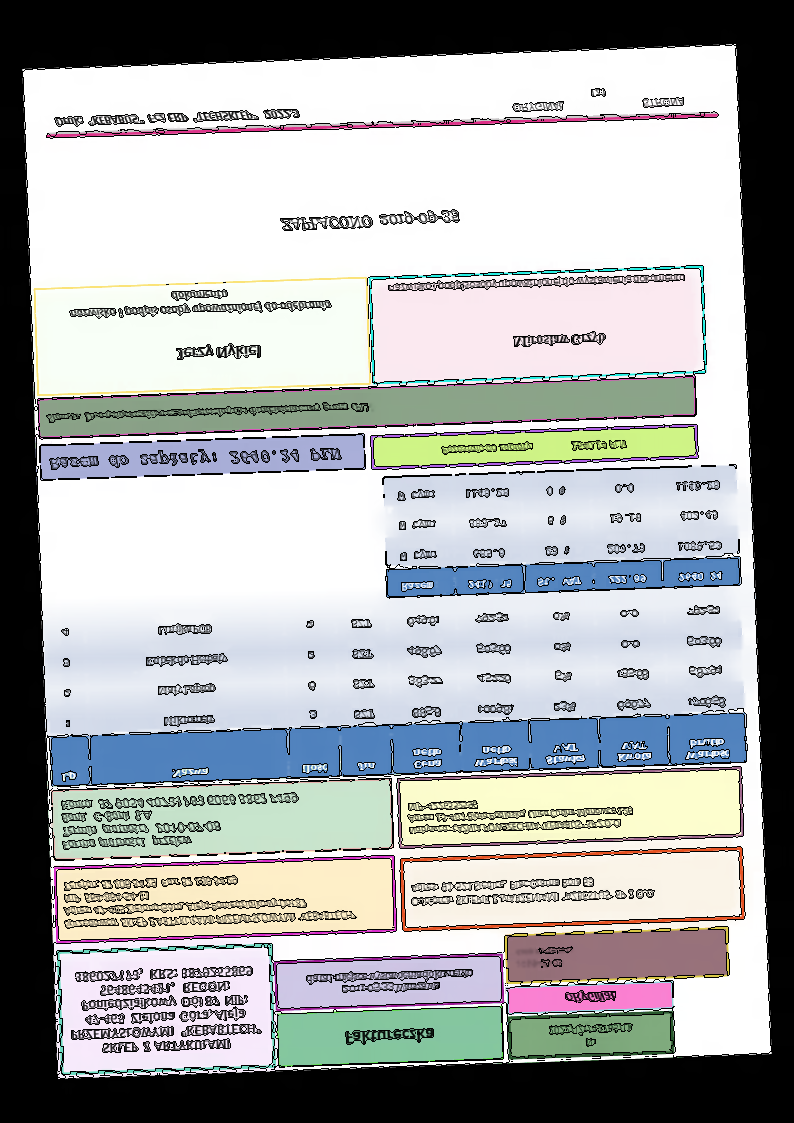Table: (43, 590, 749, 788), (381, 465, 742, 599)
TextBox: (60, 868, 357, 932), (65, 964, 265, 1058), (57, 790, 301, 852), (404, 793, 634, 838), (408, 873, 657, 910), (44, 398, 377, 425), (47, 445, 342, 473), (303, 966, 477, 999), (54, 107, 301, 130), (509, 84, 686, 114), (277, 208, 461, 234), (439, 437, 627, 458), (546, 1020, 636, 1052), (341, 1025, 435, 1047), (172, 342, 263, 363), (512, 943, 578, 971), (512, 330, 606, 349), (561, 989, 620, 1006)
